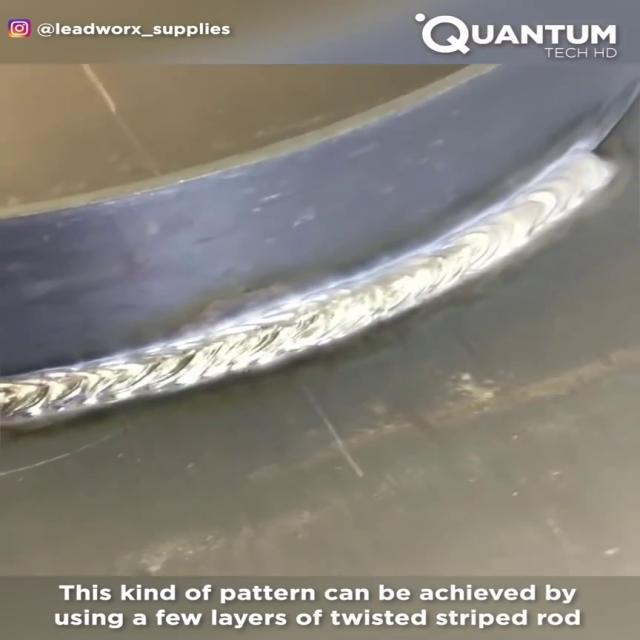Good Welding: (0, 147, 621, 437)
